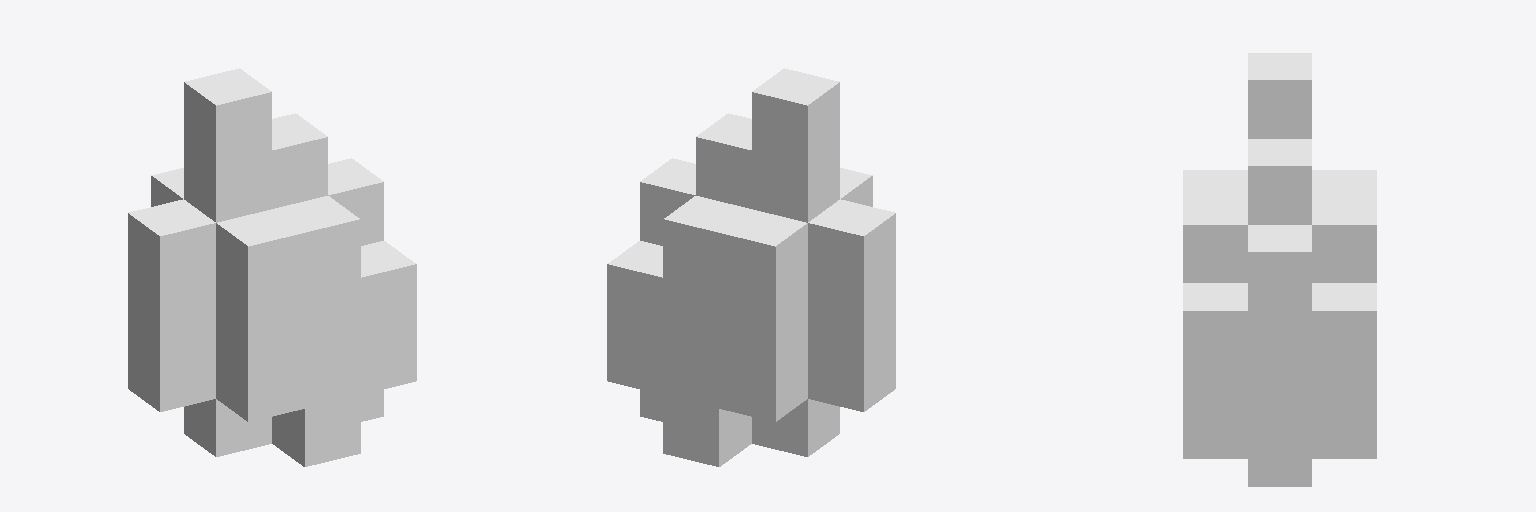
The model's file is FireProjectile.obj.
3 renders of one model, left to right at view 1: azimuth 30°, elevation 25°; view 2: azimuth 150°, elevation 25°; view 3: azimuth 270°, elevation 25°, orthographic.
Parts seen in each view (by area): view 1: object 1; view 2: object 1; view 3: object 1.
Part boxes in pixels (x1,y1,x2,y2): object 1: (128,68,416,466); object 1: (607,68,895,466); object 1: (1183,53,1376,486).
Size of the model in its own units: 0.4 by 0.6 by 0.3.